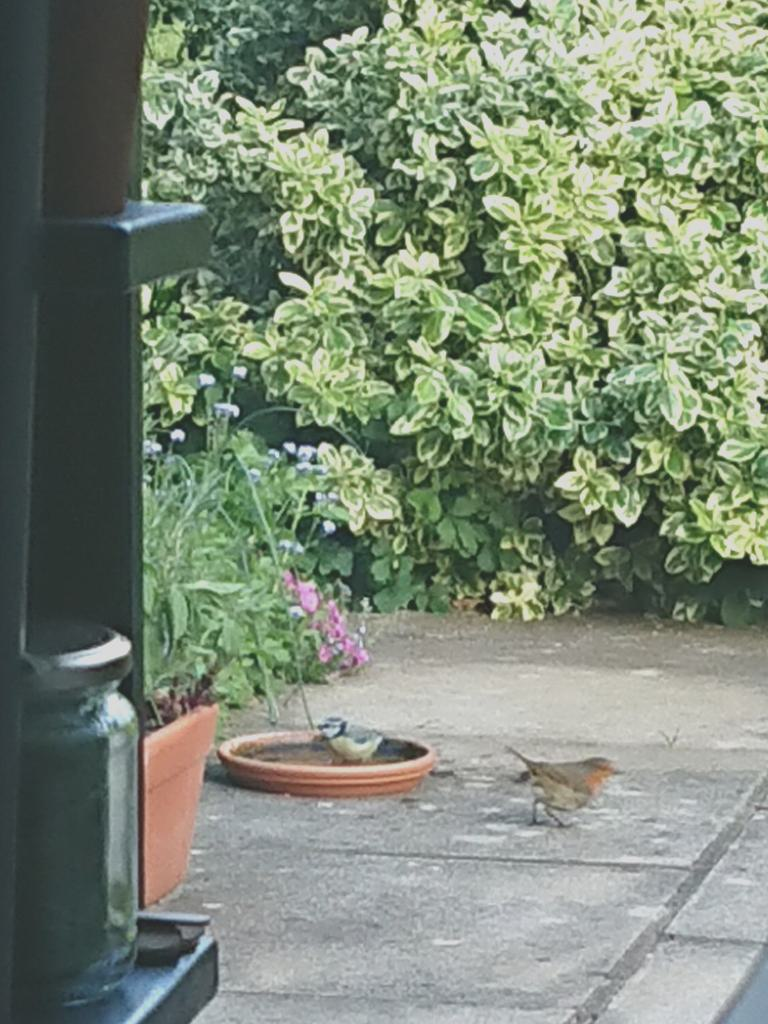ErithacusRubecula: (502, 743, 625, 828)
